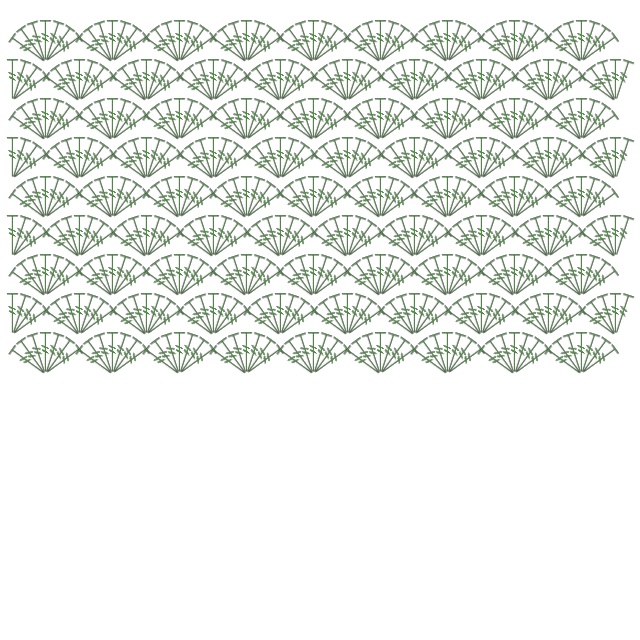fan: (6, 30, 50, 68), (14, 22, 52, 66), (40, 22, 78, 66), (42, 30, 86, 68), (73, 30, 117, 68), (81, 22, 119, 66), (107, 22, 145, 66), (109, 30, 153, 68), (140, 30, 184, 68), (148, 22, 186, 66), (174, 22, 212, 66), (176, 30, 220, 68), (207, 30, 251, 68), (215, 22, 253, 66), (241, 22, 279, 66), (243, 30, 287, 68), (274, 30, 318, 68), (282, 22, 320, 66), (308, 22, 346, 66), (310, 30, 354, 68), (341, 30, 385, 68), (349, 22, 387, 66), (375, 22, 413, 66), (377, 30, 421, 68), (408, 30, 452, 68), (416, 22, 454, 66), (442, 22, 480, 66), (444, 30, 488, 68), (475, 30, 519, 68), (483, 22, 521, 66), (509, 22, 547, 66), (511, 30, 555, 68), (542, 30, 586, 68), (550, 22, 588, 66), (576, 22, 614, 66), (578, 30, 622, 68), (7, 61, 45, 105), (9, 69, 53, 107), (40, 69, 84, 107), (48, 61, 86, 105), (74, 61, 112, 105), (76, 69, 120, 107), (107, 69, 151, 107), (115, 61, 153, 105), (141, 61, 179, 105), (143, 69, 187, 107), (174, 69, 218, 107), (182, 61, 220, 105), (208, 61, 246, 105), (210, 69, 254, 107), (241, 69, 285, 107), (249, 61, 287, 105), (275, 61, 313, 105), (277, 69, 321, 107), (308, 69, 352, 107), (316, 61, 354, 105), (342, 61, 380, 105), (344, 69, 388, 107), (375, 69, 419, 107), (383, 61, 421, 105), (409, 61, 447, 105), (411, 69, 455, 107), (442, 69, 486, 107), (450, 61, 488, 105), (476, 61, 514, 105), (478, 69, 522, 107), (509, 69, 553, 107), (517, 61, 555, 105), (543, 61, 581, 105), (545, 69, 589, 107), (576, 69, 620, 107), (584, 61, 622, 105), (6, 108, 50, 146), (14, 100, 52, 144), (40, 100, 78, 144), (42, 108, 86, 146), (73, 108, 117, 146), (81, 100, 119, 144), (107, 100, 145, 144), (109, 108, 153, 146), (140, 108, 184, 146), (148, 100, 186, 144), (174, 100, 212, 144), (176, 108, 220, 146), (207, 108, 251, 146), (215, 100, 253, 144), (241, 100, 279, 144), (243, 108, 287, 146), (274, 108, 318, 146), (282, 100, 320, 144), (308, 100, 346, 144), (310, 108, 354, 146), (341, 108, 385, 146), (349, 100, 387, 144), (375, 100, 413, 144), (377, 108, 421, 146), (408, 108, 452, 146), (416, 100, 454, 144), (442, 100, 480, 144), (444, 108, 488, 146), (475, 108, 519, 146), (483, 100, 521, 144), (509, 100, 547, 144), (511, 108, 555, 146), (542, 108, 586, 146), (550, 100, 588, 144), (576, 100, 614, 144), (578, 108, 622, 146), (7, 139, 45, 183), (9, 147, 53, 185), (40, 147, 84, 185), (48, 139, 86, 183), (74, 139, 112, 183), (76, 147, 120, 185), (107, 147, 151, 185), (115, 139, 153, 183), (141, 139, 179, 183), (143, 147, 187, 185), (174, 147, 218, 185), (182, 139, 220, 183), (208, 139, 246, 183), (210, 147, 254, 185), (241, 147, 285, 185), (249, 139, 287, 183), (275, 139, 313, 183), (277, 147, 321, 185), (308, 147, 352, 185), (316, 139, 354, 183), (342, 139, 380, 183), (344, 147, 388, 185), (375, 147, 419, 185), (383, 139, 421, 183), (409, 139, 447, 183), (411, 147, 455, 185), (442, 147, 486, 185), (450, 139, 488, 183), (476, 139, 514, 183), (478, 147, 522, 185), (509, 147, 553, 185), (517, 139, 555, 183), (543, 139, 581, 183), (545, 147, 589, 185), (576, 147, 620, 185), (584, 139, 622, 183), (6, 186, 50, 224), (14, 178, 52, 222), (40, 178, 78, 222), (42, 186, 86, 224), (73, 186, 117, 224), (81, 178, 119, 222), (107, 178, 145, 222), (109, 186, 153, 224), (140, 186, 184, 224), (148, 178, 186, 222), (174, 178, 212, 222), (176, 186, 220, 224), (207, 186, 251, 224), (215, 178, 253, 222), (241, 178, 279, 222), (243, 186, 287, 224), (274, 186, 318, 224), (282, 178, 320, 222), (308, 178, 346, 222), (310, 186, 354, 224), (341, 186, 385, 224), (349, 178, 387, 222), (375, 178, 413, 222), (377, 186, 421, 224), (408, 186, 452, 224), (416, 178, 454, 222), (442, 178, 480, 222), (444, 186, 488, 224), (475, 186, 519, 224), (483, 178, 521, 222), (509, 178, 547, 222), (511, 186, 555, 224), (542, 186, 586, 224), (550, 178, 588, 222), (576, 178, 614, 222), (578, 186, 622, 224), (7, 217, 45, 261), (9, 225, 53, 263), (40, 225, 84, 263), (48, 217, 86, 261), (74, 217, 112, 261), (76, 225, 120, 263), (107, 225, 151, 263), (115, 217, 153, 261), (141, 217, 179, 261), (143, 225, 187, 263), (174, 225, 218, 263), (182, 217, 220, 261), (208, 217, 246, 261), (210, 225, 254, 263), (241, 225, 285, 263), (249, 217, 287, 261), (275, 217, 313, 261), (277, 225, 321, 263), (308, 225, 352, 263), (316, 217, 354, 261), (342, 217, 380, 261), (344, 225, 388, 263), (375, 225, 419, 263), (383, 217, 421, 261), (409, 217, 447, 261), (411, 225, 455, 263), (442, 225, 486, 263), (450, 217, 488, 261), (476, 217, 514, 261), (478, 225, 522, 263), (509, 225, 553, 263), (517, 217, 555, 261), (543, 217, 581, 261), (545, 225, 589, 263), (576, 225, 620, 263), (584, 217, 622, 261), (6, 264, 50, 302), (14, 256, 52, 300), (40, 256, 78, 300), (42, 264, 86, 302), (73, 264, 117, 302), (81, 256, 119, 300), (107, 256, 145, 300), (109, 264, 153, 302), (140, 264, 184, 302), (148, 256, 186, 300), (174, 256, 212, 300), (176, 264, 220, 302), (207, 264, 251, 302), (215, 256, 253, 300), (241, 256, 279, 300), (243, 264, 287, 302), (274, 264, 318, 302), (282, 256, 320, 300), (308, 256, 346, 300), (310, 264, 354, 302), (341, 264, 385, 302), (349, 256, 387, 300), (375, 256, 413, 300), (377, 264, 421, 302), (408, 264, 452, 302), (416, 256, 454, 300), (442, 256, 480, 300), (444, 264, 488, 302), (475, 264, 519, 302), (483, 256, 521, 300), (509, 256, 547, 300), (511, 264, 555, 302), (542, 264, 586, 302), (550, 256, 588, 300), (576, 256, 614, 300), (578, 264, 622, 302), (7, 295, 45, 339), (9, 303, 53, 341), (40, 303, 84, 341), (48, 295, 86, 339), (74, 295, 112, 339), (76, 303, 120, 341), (107, 303, 151, 341), (115, 295, 153, 339), (141, 295, 179, 339), (143, 303, 187, 341), (174, 303, 218, 341), (182, 295, 220, 339), (208, 295, 246, 339), (210, 303, 254, 341), (241, 303, 285, 341), (249, 295, 287, 339), (275, 295, 313, 339), (277, 303, 321, 341), (308, 303, 352, 341), (316, 295, 354, 339), (342, 295, 380, 339), (344, 303, 388, 341), (375, 303, 419, 341), (383, 295, 421, 339), (409, 295, 447, 339), (411, 303, 455, 341), (442, 303, 486, 341), (450, 295, 488, 339), (476, 295, 514, 339), (478, 303, 522, 341), (509, 303, 553, 341), (517, 295, 555, 339), (543, 295, 581, 339), (545, 303, 589, 341), (576, 303, 620, 341), (584, 295, 622, 339), (6, 342, 50, 380), (14, 334, 52, 378), (40, 334, 78, 378), (42, 342, 86, 380), (73, 342, 117, 380), (81, 334, 119, 378), (107, 334, 145, 378), (109, 342, 153, 380), (140, 342, 184, 380), (148, 334, 186, 378), (174, 334, 212, 378), (176, 342, 220, 380), (207, 342, 251, 380), (215, 334, 253, 378), (241, 334, 279, 378), (243, 342, 287, 380), (274, 342, 318, 380), (282, 334, 320, 378), (308, 334, 346, 378), (310, 342, 354, 380), (341, 342, 385, 380), (349, 334, 387, 378), (375, 334, 413, 378), (377, 342, 421, 380), (408, 342, 452, 380), (416, 334, 454, 378), (442, 334, 480, 378), (444, 342, 488, 380), (475, 342, 519, 380), (483, 334, 521, 378), (509, 334, 547, 378), (511, 342, 555, 380), (542, 342, 586, 380), (550, 334, 588, 378), (576, 334, 614, 378), (578, 342, 622, 380), (25, 18, 53, 64), (39, 18, 67, 64), (92, 18, 120, 64), (106, 18, 134, 64), (159, 18, 187, 64), (173, 18, 201, 64), (226, 18, 254, 64), (240, 18, 268, 64), (293, 18, 321, 64), (307, 18, 335, 64), (360, 18, 388, 64), (374, 18, 402, 64), (427, 18, 455, 64), (441, 18, 469, 64), (494, 18, 522, 64), (508, 18, 536, 64), (561, 18, 589, 64), (575, 18, 603, 64), (6, 57, 34, 103), (59, 57, 87, 103), (73, 57, 101, 103), (126, 57, 154, 103), (140, 57, 168, 103), (193, 57, 221, 103), (207, 57, 235, 103), (260, 57, 288, 103), (274, 57, 302, 103), (327, 57, 355, 103), (341, 57, 369, 103), (394, 57, 422, 103), (408, 57, 436, 103), (461, 57, 489, 103), (475, 57, 503, 103), (528, 57, 556, 103), (542, 57, 570, 103), (595, 57, 623, 103), (609, 57, 637, 103), (25, 96, 53, 142), (39, 96, 67, 142), (92, 96, 120, 142), (106, 96, 134, 142), (159, 96, 187, 142), (173, 96, 201, 142), (226, 96, 254, 142), (240, 96, 268, 142), (293, 96, 321, 142), (307, 96, 335, 142), (360, 96, 388, 142), (374, 96, 402, 142), (427, 96, 455, 142), (441, 96, 469, 142), (494, 96, 522, 142), (508, 96, 536, 142), (561, 96, 589, 142), (575, 96, 603, 142), (6, 135, 34, 181), (59, 135, 87, 181), (73, 135, 101, 181), (126, 135, 154, 181), (140, 135, 168, 181), (193, 135, 221, 181), (207, 135, 235, 181), (260, 135, 288, 181), (274, 135, 302, 181), (327, 135, 355, 181), (341, 135, 369, 181), (394, 135, 422, 181), (408, 135, 436, 181), (461, 135, 489, 181), (475, 135, 503, 181), (528, 135, 556, 181), (542, 135, 570, 181), (595, 135, 623, 181), (609, 135, 637, 181), (25, 174, 53, 220), (39, 174, 67, 220), (92, 174, 120, 220), (106, 174, 134, 220), (159, 174, 187, 220), (173, 174, 201, 220), (226, 174, 254, 220), (240, 174, 268, 220), (293, 174, 321, 220), (307, 174, 335, 220), (360, 174, 388, 220), (374, 174, 402, 220), (427, 174, 455, 220), (441, 174, 469, 220), (494, 174, 522, 220), (508, 174, 536, 220), (561, 174, 589, 220), (575, 174, 603, 220), (6, 213, 34, 259), (59, 213, 87, 259), (73, 213, 101, 259), (126, 213, 154, 259), (140, 213, 168, 259), (193, 213, 221, 259), (207, 213, 235, 259), (260, 213, 288, 259), (274, 213, 302, 259), (327, 213, 355, 259), (341, 213, 369, 259), (394, 213, 422, 259), (408, 213, 436, 259), (461, 213, 489, 259), (475, 213, 503, 259), (528, 213, 556, 259), (542, 213, 570, 259), (595, 213, 623, 259), (609, 213, 637, 259), (25, 252, 53, 298), (39, 252, 67, 298), (92, 252, 120, 298), (106, 252, 134, 298), (159, 252, 187, 298), (173, 252, 201, 298), (226, 252, 254, 298), (240, 252, 268, 298), (293, 252, 321, 298), (307, 252, 335, 298), (360, 252, 388, 298), (374, 252, 402, 298), (427, 252, 455, 298), (441, 252, 469, 298), (494, 252, 522, 298), (508, 252, 536, 298), (561, 252, 589, 298), (575, 252, 603, 298), (6, 291, 34, 337), (59, 291, 87, 337), (73, 291, 101, 337), (126, 291, 154, 337), (140, 291, 168, 337), (193, 291, 221, 337), (207, 291, 235, 337), (260, 291, 288, 337), (274, 291, 302, 337), (327, 291, 355, 337), (341, 291, 369, 337), (394, 291, 422, 337), (408, 291, 436, 337), (461, 291, 489, 337), (475, 291, 503, 337), (528, 291, 556, 337), (542, 291, 570, 337), (595, 291, 623, 337), (609, 291, 637, 337), (25, 330, 53, 376), (39, 330, 67, 376), (92, 330, 120, 376), (106, 330, 134, 376), (159, 330, 187, 376), (173, 330, 201, 376), (226, 330, 254, 376), (240, 330, 268, 376), (293, 330, 321, 376), (307, 330, 335, 376), (360, 330, 388, 376), (374, 330, 402, 376), (427, 330, 455, 376), (441, 330, 469, 376), (494, 330, 522, 376), (508, 330, 536, 376), (561, 330, 589, 376), (575, 330, 603, 376), (38, 18, 54, 62), (172, 18, 188, 62), (306, 18, 322, 62), (440, 18, 456, 62), (574, 18, 590, 62), (72, 57, 88, 101), (206, 57, 222, 101), (340, 57, 356, 101), (474, 57, 490, 101), (608, 57, 624, 101), (38, 96, 54, 140), (172, 96, 188, 140), (306, 96, 322, 140), (440, 96, 456, 140), (574, 96, 590, 140), (72, 135, 88, 179), (206, 135, 222, 179), (340, 135, 356, 179), (474, 135, 490, 179), (608, 135, 624, 179), (38, 174, 54, 218), (172, 174, 188, 218), (306, 174, 322, 218), (440, 174, 456, 218), (574, 174, 590, 218), (72, 213, 88, 257), (206, 213, 222, 257), (340, 213, 356, 257), (474, 213, 490, 257), (608, 213, 624, 257), (38, 252, 54, 296), (172, 252, 188, 296), (306, 252, 322, 296), (440, 252, 456, 296), (574, 252, 590, 296), (72, 291, 88, 335), (206, 291, 222, 335), (340, 291, 356, 335), (474, 291, 490, 335), (608, 291, 624, 335), (38, 330, 54, 374), (172, 330, 188, 374), (306, 330, 322, 374), (440, 330, 456, 374), (574, 330, 590, 374), (106, 18, 120, 62), (240, 18, 254, 62), (374, 18, 388, 62), (508, 18, 522, 62), (6, 57, 20, 101), (140, 57, 154, 101), (274, 57, 288, 101), (408, 57, 422, 101), (542, 57, 556, 101), (106, 96, 120, 140), (240, 96, 254, 140), (374, 96, 388, 140), (508, 96, 522, 140), (6, 135, 20, 179), (140, 135, 154, 179), (274, 135, 288, 179), (408, 135, 422, 179), (542, 135, 556, 179), (106, 174, 120, 218), (240, 174, 254, 218), (374, 174, 388, 218), (508, 174, 522, 218), (6, 213, 20, 257), (140, 213, 154, 257), (274, 213, 288, 257), (408, 213, 422, 257), (542, 213, 556, 257), (106, 252, 120, 296), (240, 252, 254, 296), (374, 252, 388, 296), (508, 252, 522, 296), (6, 291, 20, 335), (140, 291, 154, 335), (274, 291, 288, 335), (408, 291, 422, 335), (542, 291, 556, 335), (106, 330, 120, 374), (240, 330, 254, 374), (374, 330, 388, 374), (508, 330, 522, 374)
